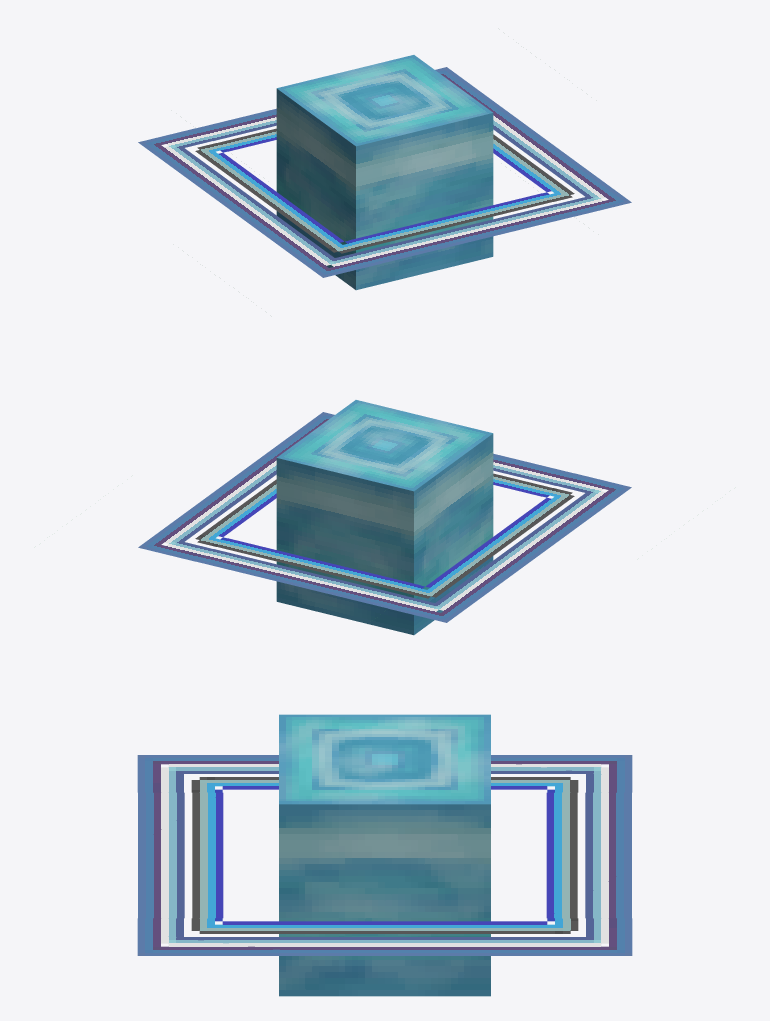
Rendered from uranus.gltf.
3 renders of one model, top to bottom at view 1: azimuth 30°, elevation 25°; view 2: azimuth 150°, elevation 25°; view 3: azimuth 270°, elevation 25°, orthographic. The views are drawn at different scales.
Parts seen in each view (by area): view 1: cube (×5); view 2: cube (×5); view 3: cube (×5).
Part boxes in pixels (<box>): cube (×5): <box>138,55,631,290</box>; cube (×5): <box>138,400,631,635</box>; cube (×5): <box>137,714,632,996</box>.
Size of the model in its own units: 13.5 by 4 by 14.
1 material, 1 textured.
